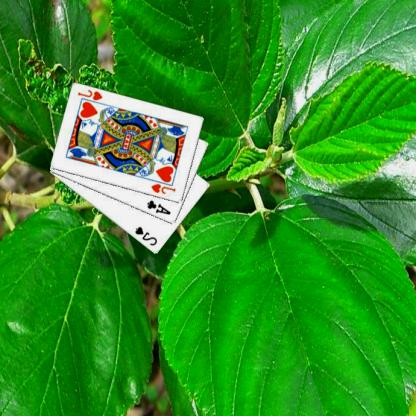2S: (134, 224, 160, 247)
AC: (146, 198, 174, 216)
JH: (77, 87, 106, 102), (150, 182, 179, 196)
